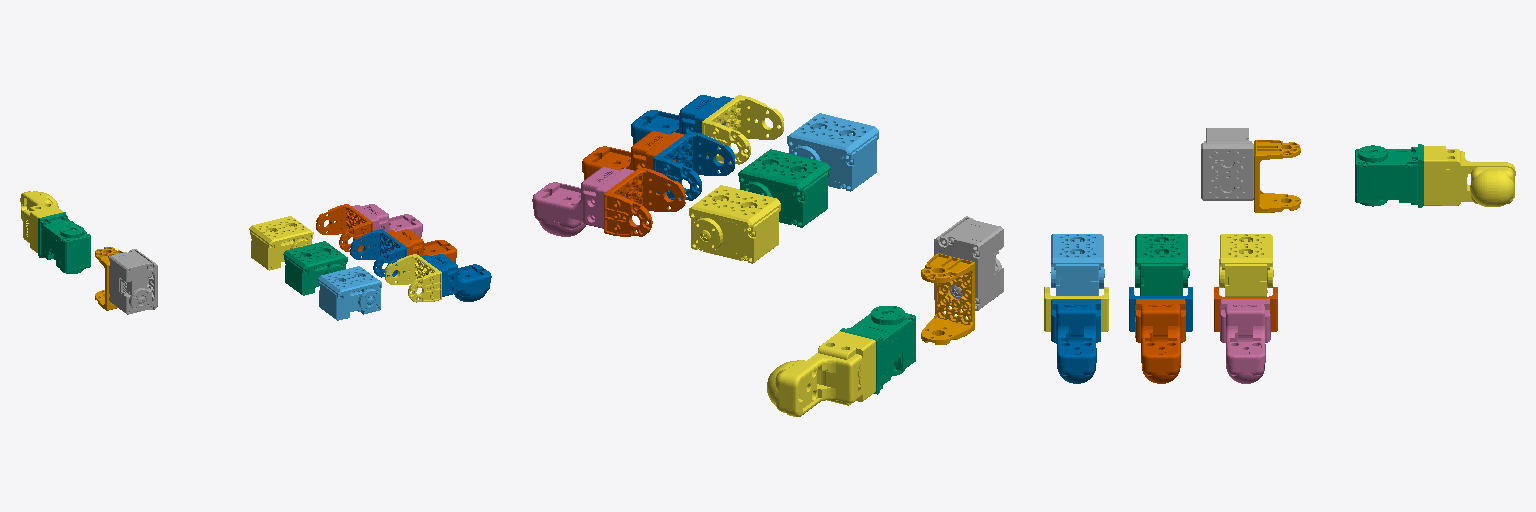
--- What the picture shows (computed from the rendered views, not written in the file) ---
The picture shows the robot from 3 angles, left to right: view 1: azimuth 30°, elevation 25°; view 2: azimuth 150°, elevation 25°; view 3: azimuth 270°, elevation 25°; orthographic projection.
Model leap_right_dottip with 29 links and 28 joints (16 revolute, 12 fixed), rooted at palm_center, posed all joints at 0.
Links seen in each view (by area): view 1: pip_4, pip_3, thumb_tip_base, pip_2, pip, fingertip_rf, tip_base_3, tip_base, tip_base_2, thumb_fingertip, fingertip_if, fingertip_mf (+1 smaller); view 2: thumb_fingertip, pip, pip_2, pip_3, fingertip_if, tip_base, pip_4, thumb_pip, thumb_tip_base, tip_base_2, tip_base_3, fingertip_rf (+1 smaller); view 3: thumb_fingertip, thumb_tip_base, pip_4, fingertip_mf, fingertip_if, fingertip_rf, pip, pip_3, pip_2, thumb_pip, tip_base_3, tip_base_2 (+1 smaller).
Boxes of the visible links, x1,y1,x2,y2 form: pip_4: (109,249,157,314); pip_3: (318,266,381,320); thumb_tip_base: (38,212,90,273); pip_2: (283,241,347,295); pip: (249,216,313,270); fingertip_rf: (421,254,491,301); tip_base_3: (385,254,441,302); tip_base: (316,204,372,251); tip_base_2: (350,229,406,277); thumb_fingertip: (20,191,62,252); fingertip_if: (352,204,422,237); fingertip_mf: (387,229,456,262); thumb_fingertip: (767,331,875,416); pip: (689,185,780,263); pip_2: (738,149,830,227); pip_3: (787,113,878,191); fingertip_if: (532,167,633,236); tip_base: (604,167,685,236); pip_4: (934,216,1003,310); thumb_pip: (921,253,974,344); thumb_tip_base: (840,306,915,394); tip_base_2: (653,131,734,200); tip_base_3: (702,95,783,164); fingertip_rf: (631,95,733,144); thumb_fingertip: (1424,146,1515,206); thumb_tip_base: (1355,144,1423,207); pip_4: (1201,128,1253,200); fingertip_mf: (1135,299,1185,383); fingertip_if: (1220,299,1270,383); fingertip_rf: (1051,299,1100,383); pip: (1219,234,1273,296); pip_3: (1050,234,1104,295); pip_2: (1135,234,1189,295); thumb_pip: (1254,140,1300,212); tip_base_3: (1044,287,1108,331); tip_base_2: (1129,287,1192,331).
Size in the robot's own frame: 0.2348 by 0.2533 by 0.0468 metres.
Meshes: 10 distinct files referenced, 13 mesh visuals loaded (6 Collada DAE); not drawn: 8 (reference not matched to a file when rendering).

URDF robot description (leap_right_dottip):
<?xml version="1.0"?>

<robot name="leap_right_dottip">

    <link name="palm_center">
        <inertial>
            <origin xyz="0 0 0" rpy="0 0 0"/>
            <mass value="1e-6" />
            <inertia ixx="0.000000" ixy="0" ixz="0" iyy="0.000000" iyz="0" izz="0.000000" />
        </inertial>
    </link>

    <joint name="palm_joint" type="fixed" dont_collapse="true">
        <parent link="palm_center" />
        <child link="palm_lower" />
        <origin xyz="0.058 0.038 -0.048"
            rpy="0 0 0" />
    </joint>


    <link name="palm_lower">
        <visual>
            <origin xyz="-0.0200 0.02575 -0.0347" rpy="0 -0 0" />
            <geometry>
                <mesh filename="./meshes/palm_pack.dae"/>
                <!-- <mesh filename="./meshes/palm_lower.dae"/> -->
            </geometry>
            <!-- <material name="palm_lower_material">
                <color rgba="0.60392 0.14902 0.14902 1.0"/>
            </material> -->
        </visual>
        <collision>
            <origin xyz="-0.0200 0.02575 -0.0347" rpy="0 -0 0" />
            <geometry>
                <!-- <mesh filename="./meshes/palm_pack.dae"/> -->
                <mesh filename="./meshes/palm_lower.stl"/>
            </geometry>
        </collision>
        <inertial>
            <origin xyz="0 0 0" rpy="0 0 0"/>
            <mass value="0.237" />
            <inertia ixx="0.000354094" ixy="-0.000001193" ixz="-0.000002445" iyy="0.000260915" iyz="-0.000002905" izz="0.000529257" />
        </inertial>
    </link>




    <link name="mcp_joint">
        <visual>
            <origin xyz="0.00840 0.00776 0.01466" rpy="0 0 0" />
            <geometry>
                <mesh filename="./meshes/mcp_joint.dae"/>
            </geometry>
            <!-- <material name="mcp_joint_material">
                <color rgba="0.86666 0.86666 0.050980 1.0"/>
            </material> -->
        </visual>
        <collision>
            <origin xyz="0.00840 0.00776 0.01466" rpy="0 0 0" />
            <geometry>
                <mesh filename="./meshes/mcp_joint.dae"/>
            </geometry>
        </collision>
        <inertial>
            <origin xyz="0 0 0" rpy="0 0 0"/>
            <mass value="0.044" />
            <inertia ixx="0.000011499" ixy="0.000003049" ixz="0.000000121" iyy="0.000007796" iyz="0.000000112" izz="0.000014759" />
        </inertial>
    </link>

    <joint name="j01" type="revolute">
        <origin xyz="-0.0070 0.0230 -0.0187" rpy="1.570796 1.570796 0" />
        <parent link="palm_lower" />
        <child link="mcp_joint" />
        <axis xyz="0 0 -1"/>
        <limit effort="0.95" velocity="8.48" lower = "-0.314" upper = "2.23"/>
        <!-- <joint_properties friction="0.0"/> -->
    </joint>


    <link name="pip">
        <visual>
            <origin xyz="0.00964 0.000299 0.000784" rpy="-1.570796 -1.570796 0" />
            <geometry>
                <mesh filename="./meshes/pip.dae"/>
            </geometry>
            <!-- <material name="pip_material">
                <color rgba="0.7490196 0.7490196 0.7490196 1.0"/>
            </material> -->
        </visual>
        <collision>
            <origin xyz="0.00964 0.000299 0.000784" rpy="-1.570796 -1.570796 0" />
            <geometry>
                <mesh filename="./meshes/pip.dae"/>
            </geometry>
        </collision>
        <inertial>
            <origin xyz="0 0 0" rpy="0 0 0"/>
            <mass value="0.032" />
            <inertia ixx="0.000004798" ixy="0.000000012" ixz="0.000000004" iyy="0.000002862" iyz="0.000000011" izz="0.000004234" />
        </inertial>
    </link>

    <joint name="j00" type="revolute">
        <origin xyz="-0.0122 0.0380 0.0145" rpy="-1.570796 0 1.570796" />
        <parent link="mcp_joint" />
        <child link="pip" />
        <axis xyz="0 0 -1"/>
        <!-- <limit effort="0.95" velocity="8.48" lower = "-0.80" upper = "0.05"/> -->
        <limit effort="0.95" velocity="8.48" lower = "-1.047" upper = "1.047"/>
        <!-- <joint_properties friction="0.0"/> -->
    </joint>

    <link name="dip">
        <visual>
            <origin xyz="0.021133 -0.0084321 0.009785" rpy="-3.1415926 0 0" />
            <geometry>
                <mesh filename="./meshes/dip.dae"/>
            </geometry>
            <!-- <material name="dip_material">
                <color rgba="0.866666 0.86666666 0.05098039 1.0"/>
            </material> -->
        </visual>
        <collision>
            <origin xyz="0.021133 -0.0084321 0.009785" rpy="-3.1415926 0 0" />
            <geometry>
                <mesh filename="./meshes/dip.dae"/>
            </geometry>
        </collision>
        <inertial>
            <origin xyz="0 0 0" rpy="0 0 0"/>
            <mass value="0.037" />
            <inertia ixx="0.000005542" ixy="-0.000000607" ixz="-0.000000017" iyy="0.000005727" iyz="-0.000000023" izz="0.000006682" />
        </inertial>
    </link>

    <joint name="j02" type="revolute">
        <origin xyz="0.01499 0.014299 -0.01299" rpy="1.570796 -1.570796 0" />
        <parent link="pip" />
        <child link="dip" />
        <axis xyz="0 0 -1"/>
        <limit effort="0.95" velocity="8.48" lower = "0.00" upper = "1.885"/>
        <!-- <joint_properties friction="0.0"/> -->
    </joint>

    <link name="tip_base">
        <visual>
            <origin xyz="0 -0.014 0.014499" rpy="3.14159 0 0 " />
            <geometry>
                <mesh filename="./meshes/tip_base.dae"/>
            </geometry>
            <!-- <material name="tip_base_material">
                <color rgba="0.46777 0.86666 0.05098 1.0"/>
            </material> -->
        </visual>
        <collision>
            <origin xyz="0 -0.014 0.014499" rpy="3.14159 0 0 " />
            <geometry>
                <mesh filename="./meshes/tip_base.dae"/>
            </geometry>
        </collision>
        <inertial>
            <origin xyz="0 0 0" rpy="0 0 0"/>
            <mass value="0.008" />
            <inertia ixx="0.000003368" ixy="0.000000115" ixz="0" iyy="0.000001556" iyz="0" izz="0.000002863" />
        </inertial>
    </link>

    <joint name="j03" type="revolute">
        <origin xyz="0 -0.03610 0 " rpy="0 0 0 " />
        <!-- <origin xyz="0 0 0 " rpy="0 0 0 " /> -->
        <parent link="dip" />
        <child link="tip_base" />
        <axis xyz="0 0 -1"/>
        <limit effort="0.95" velocity="8.48" lower = "0.0" upper = "2.00"/>
        <!-- <joint_properties friction="0.0"/> -->
    </joint>

    <link name="fingertip_if">
        <visual>
            <origin xyz="0 0 0" rpy="3.14159 0 -1.57080" />
            <geometry>
                <mesh filename="./meshes/DotTip.dae"/>
            </geometry>
            <!-- <material name="fingertip_material">
                <color rgba="0.8627 0.7868 0.5568 1.0"/>
            </material> -->
        </visual>
        <collision>
            <origin xyz="0 0 0" rpy="3.14159 0 -1.57080" />
            <geometry>
                <mesh filename="./meshes/DotTip.dae"/>
            </geometry>
        </collision>
        <inertial>
            <origin xyz="0 0 0" rpy="0 0 0"/>
            <mass value="0.016" />
            <inertia ixx="0.000003368" ixy="0.000000115" ixz="0" iyy="0.000001556" iyz="0" izz="0.000002863" />
        </inertial>
    </link>


    <joint name="if_tip" type="fixed" dont_collapse="true">
        <origin xyz="-0.010  -0.048 0.014499" rpy="0 0 0 " />
        <parent link="tip_base" />
        <child link="fingertip_if" />
    </joint>

    <link name="if_tip_center">
        <inertial>
            <origin xyz="0 0 0" rpy="0 0 0"/>
            <mass value="0.000005" />
            <!-- <inertia ixx="0.000000" ixy="0" ixz="0" iyy="0.000000" iyz="0" izz="0.000000" /> -->
        </inertial>
    </link>
    <joint name="if_tip_center_joint" type="fixed" dont_collapse="true">
        <parent link="fingertip_if" />
        <child link="if_tip_center" />
        <origin xyz="0 0 0" rpy="-1.570796 0 -1.570796" />
    </joint>

    <link name="if_dip_upper">
        <inertial>
            <origin xyz="0 0 0" rpy="0 0 0"/>
            <mass value="0.000" />
            <inertia ixx="0.000000" ixy="0" ixz="0" iyy="0.000000" iyz="0" izz="0.000000" />
        </inertial>
    </link>
    <joint name="if_dip_upper_joint" type="fixed">
        <parent link="tip_base" />
        <child link="if_dip_upper" />
        <origin xyz="0.032 0 0" rpy="0 0 0" />
    </joint>


    <link name="mcp_joint_2">
        <visual>
            <origin xyz="0.0084 0.00776 0.0146576" rpy="0 0 0" />
            <geometry>
                <mesh filename="./meshes/mcp_joint.dae"/>
            </geometry>
            <!-- <material name="mcp_joint_material">
                <color rgba="0.86666666666666669627 0.86666666666666669627 0.050980392156862744391 1.0"/>
            </material> -->
        </visual>
        <collision>
            <origin xyz="0.0084 0.00776 0.0146576" rpy="0 0 0" />
            <geometry>
                <mesh filename="./meshes/mcp_joint.dae"/>
            </geometry>
        </collision>
        <inertial>
            <origin xyz="0 0 0" rpy="0 0 0"/>
            <mass value="0.044" />
            <inertia ixx="0.000011499" ixy="0.000003049" ixz="0.000000121" iyy="0.000007796" iyz="0.000000112" izz="0.000014759" />
        </inertial>
    </link>

    <link name="pip_2">
        <visual>
            <origin xyz="0.00964 0.000299 0.00078" rpy="-1.570796 -1.5707966 0" />
            <geometry>
                <mesh filename="./meshes/pip.dae"/>
            </geometry>
            <!-- <material name="pip_material">
                <color rgba="0.74901960784313725839 0.74901960784313725839 0.74901960784313725839 1.0"/>
            </material> -->
        </visual>
        <collision>
            <origin xyz="0.00964 0.000299 0.00078" rpy="-1.570796 -1.5707966 0" />
            <geometry>
                <mesh filename="./meshes/pip.dae"/>
            </geometry>
        </collision>
        <inertial>
            <origin xyz="0 0 0" rpy="0 0 0"/>
            <mass value="0.032" />
            <inertia ixx="0.000004798" ixy="0.000000012" ixz="0.000000004" iyy="0.000002862" iyz="0.000000011" izz="0.000004234" />
        </inertial>
    </link>

    <link name="dip_2">
        <visual>
            <origin xyz="0.02113 -0.008433 0.009785" rpy="-3.1415926 0 0 " />
            <geometry>
                <mesh filename="./meshes/dip.dae"/>
            </geometry>
            <!-- <material name="dip_material">
                <color rgba="0.8666666 0.86666666 0.050980 1.0"/>
            </material> -->
        </visual>
        <collision>
            <origin xyz="0.02113 -0.008433 0.009785" rpy="-3.1415926 0 0 " />
            <geometry>
                <mesh filename="./meshes/dip.dae"/>
            </geometry>
        </collision>
        <inertial>
            <origin xyz="0 0 0" rpy="0 0 0"/>
            <mass value="0.037" />
            <inertia ixx="0.000005542" ixy="-0.000000607" ixz="-0.000000017" iyy="0.000005727" iyz="-0.000000023" izz="0.000006682" />
        </inertial>
    </link>

    <link name="tip_base_2">
        <visual>
            <origin xyz="0 -0.014 0.014499" rpy="3.14159 0 0 " />
            <geometry>
                <mesh filename="./meshes/tip_base.dae"/>
            </geometry>
            <!-- <material name="tip_base_material">
                <color rgba="0.46777 0.86666666 0.05098039 1.0"/>
            </material> -->
        </visual>
        <collision>
            <origin xyz="0 -0.014 0.014499" rpy="3.14159 0 0 " />
            <geometry>
                <mesh filename="./meshes/tip_base.dae"/>
            </geometry>
        </collision>
        <inertial>
            <origin xyz="0 0 0" rpy="0 0 0"/>
            <mass value="0.008" />
            <inertia ixx="0.000003368" ixy="0.000000115" ixz="0" iyy="0.000001556" iyz="0" izz="0.000002863" />
        </inertial>
    </link>

    <link name="fingertip_mf">
        <visual>
            <origin xyz="0 0 0" rpy="3.14159 0 -1.57080" />
            <geometry>
                <mesh filename="./meshes/DotTip.dae"/>
            </geometry>
            <!-- <material name="fingertip_material">
                <color rgba="0.8627 0.7868 0.5568 1.0"/>
            </material> -->
        </visual>
        <collision>
            <origin xyz="0 0 0" rpy="3.14159 0 -1.57080"/>
            <geometry>
                <mesh filename="./meshes/DotTip.dae"/>
            </geometry>
        </collision>
        <inertial>
            <origin xyz="0 0 0" rpy="0 0 0"/>
            <mass value="0.016" />
            <inertia ixx="0.000003368" ixy="0.000000115" ixz="0" iyy="0.000001556" iyz="0" izz="0.000002863" />
        </inertial>
    </link>

    <joint name="j04" type="revolute">
        <origin xyz="-0.01220 0.0380 0.0145" rpy="-1.570796 0 1.570796" />
        <parent link="mcp_joint_2" />
        <child link="pip_2" />
        <axis xyz="0 0 -1"/>
        <!-- <limit effort="0.95" velocity="8.48" lower = "-0.30" upper = "0.30"/> -->
        <limit effort="0.95" velocity="8.48" lower = "-1.047" upper = "1.047"/>
        <!-- <joint_properties friction="0.0"/> -->
    </joint>

    <joint name="j05" type="revolute">
        <origin xyz="-0.007095 -0.022392 -0.01872" rpy="1.570796 1.570796 0" />
        <parent link="palm_lower" />
        <child link="mcp_joint_2" />
        <axis xyz="0 0 -1"/>
        <limit effort="0.95" velocity="8.48" lower = "-0.314" upper = "2.23"/>
        <!-- <joint_properties friction="0.0"/> -->
    </joint>

    <joint name="j06" type="revolute">
        <origin xyz="0.01499 0.01430 -0.0130" rpy="1.570796 -1.570796 0" />
        <parent link="pip_2" />
        <child link="dip_2" />
        <axis xyz="0 0 -1"/>
        <limit effort="0.95" velocity="8.48" lower = "0.00" upper = "1.885"/>
        <!-- <joint_properties friction="0.0"/> -->
    </joint>

    <joint name="j07" type="revolute">
        <origin xyz="0 -0.0360 0.0002" rpy="0 0 0" />
        <parent link="dip_2" />
        <child link="tip_base_2" />
        <axis xyz="0 0 -1"/>
        <limit effort="0.95" velocity="8.48" lower = "0.0" upper = "2.00"/>
        <!-- <joint_properties friction="0.0"/> -->
    </joint>

    <joint name="mf_tip" type="fixed" dont_collapse="true">
        <origin xyz="-0.010  -0.048 0.014499" rpy="0 0 0 " />
        <parent link="tip_base_2" />
        <child link="fingertip_mf" />
    </joint>

    <link name="mf_tip_center">
        <inertial>
            <origin xyz="0 0 0" rpy="0 0 0"/>
            <mass value="0.000005" />
            <!-- <inertia ixx="0.000000" ixy="0" ixz="0" iyy="0.000000" iyz="0" izz="0.000000" /> -->
        </inertial>
    </link>
    <joint name="mf_tip_center_joint" type="fixed" dont_collapse="true">
        <parent link="fingertip_mf" />
        <child link="mf_tip_center" />
        <!-- <origin rpy="0.00000 0.00000 0.00000" xyz="0 0 -0.07" /> -->
        <origin xyz="0 0 0" rpy="-1.5707 0 -1.5707" />
    </joint>

    <link name="mf_dip_upper">
        <inertial>
            <origin xyz="0 0 0" rpy="0 0 0"/>
            <mass value="0.000" />
            <inertia ixx="0.000000" ixy="0" ixz="0" iyy="0.000000" iyz="0" izz="0.000000" />
        </inertial>
    </link>
    <joint name="mf_dip_upper_joint" type="fixed">
        <parent link="tip_base_2" />
        <child link="mf_dip_upper" />
        <origin xyz="0.032 0 0" rpy="0 0 0" />
    </joint>



    <link name="mcp_joint_3">
        <visual>
            <origin xyz="0.00840 0.007766 0.01465" rpy="0 0 0" />
            <geometry>
                <mesh filename="./meshes/mcp_joint.dae"/>
            </geometry>
            <!-- <material name="mcp_joint_material">
                <color rgba="0.866666 0.8666 0.05098 1.0"/>
            </material> -->
        </visual>
        <collision>
            <origin xyz="0.00840 0.007766 0.01465" rpy="0 0 0" />
            <geometry>
                <mesh filename="./meshes/mcp_joint.dae"/>
            </geometry>
        </collision>
        <inertial>
            <origin xyz="0 0 0" rpy="0 0 0"/>
            <mass value="0.044" />
            <inertia ixx="0.000011499" ixy="0.000003049" ixz="0.000000121" iyy="0.000007796" iyz="0.000000112" izz="0.000014759" />
        </inertial>
    </link>

    <link name="pip_3">
        <visual>
            <origin xyz="0.00964 0.000299 0.000784" rpy="-1.570796 -1.570796 0" />
            <geometry>
                <mesh filename="./meshes/pip.dae"/>
            </geometry>
            <!-- <material name="pip_material">
                <color rgba="0.7490196 0.7490196 0.7490196 1.0"/>
            </material> -->
        </visual>
        <collision>
            <origin xyz="0.00964 0.000299 0.000784" rpy="-1.570796 -1.570796 0" />
            <geometry>
                <mesh filename="./meshes/pip.dae"/>
            </geometry>
        </collision>
        <inertial>
            <origin xyz="0 0 0" rpy="0 0 0"/>
            <mass value="0.032" />
            <inertia ixx="0.000004798" ixy="0.000000012" ixz="0.000000004" iyy="0.000002862" iyz="0.000000011" izz="0.000004234" />
        </inertial>
    </link>

    <link name="dip_3">
        <visual>
            <origin xyz="0.0211 -0.0084 0.00978" rpy="-3.1415926 0 0" />
            <geometry>
                <mesh filename="./meshes/dip.dae"/>
            </geometry>
            <!-- <material name="dip_material">
                <color rgba="0.8666 0.866 0.050 1.0"/>
            </material> -->
        </visual>
        <collision>
            <origin xyz="0.0211 -0.0084 0.00978" rpy="-3.1415926 0 0" />
            <geometry>
                <mesh filename="./meshes/dip.dae"/>
            </geometry>
        </collision>
        <inertial>
            <origin xyz="0 0 0" rpy="0 0 0"/>
            <mass value="0.037" />
            <inertia ixx="0.000005542" ixy="-0.000000607" ixz="-0.000000017" iyy="0.000005727" iyz="-0.000000023" izz="0.000006682" />
        </inertial>
    </link>

    <link name="tip_base_3">
        <visual>
            <origin xyz="0 -0.014 0.014499" rpy="3.14159 0 0 " />
            <geometry>
                <mesh filename="./meshes/tip_base.dae"/>
            </geometry>
            <!-- <material name="tip_base_material">
                <color rgba="0.46777 0.866 0.05098 1.0"/>
            </material> -->
        </visual>
        <collision>
            <origin xyz="0 -0.014 0.014499" rpy="3.14159 0 0 " />
            <geometry>
                <mesh filename="./meshes/tip_base.dae"/>
            </geometry>
        </collision>
        <inertial>
            <origin xyz="0 0 0" rpy="0 0 0"/>
            <mass value="0.008" />
            <inertia ixx="0.000003368" ixy="0.000000115" ixz="0" iyy="0.000001556" iyz="0" izz="0.000002863" />
        </inertial>
    </link>

    <link name="fingertip_rf">
        <visual>
            <!-- <origin xyz="0 -0.017 0.014499" rpy="3.14159 0 -1.57080" /> -->
            <origin xyz="0 0 0 " rpy="3.14159 0 -1.57080" />
            <geometry>
                <mesh filename="./meshes/DotTip.dae"/>
            </geometry>
            <!-- <material name="fingertip_material">
                <color rgba="0.8627 0.7868 0.5568 1.0"/>
            </material> -->
        </visual>
        <collision>
            <origin xyz="0 0 0 " rpy="3.14159 0 -1.57080" />
            <geometry>
                <mesh filename="./meshes/DotTip.dae"/>
            </geometry>
        </collision>
        <inertial>
            <origin xyz="0 0 0" rpy="0 0 0"/>
            <mass value="0.016" />
            <inertia ixx="0.000003368" ixy="0.000000115" ixz="0" iyy="0.000001556" iyz="0" izz="0.000002863" />
        </inertial>
    </link>

    <joint name="j08" type="revolute">
        <origin xyz="-0.0122 0.03811 0.0144" rpy="-1.570796 0 1.570796" />
        <parent link="mcp_joint_3" />
        <child link="pip_3" />
        <axis xyz="0 0 -1"/>
        <!-- <limit effort="0.95" velocity="8.48" lower = "-0.05" upper = "0.80"/> -->
        <limit effort="0.95" velocity="8.48" lower = "-1.047" upper = "1.047"/>
        <!-- <joint_properties friction="0.0"/> -->
    </joint>

    <joint name="j09" type="revolute">
        <origin xyz="-0.0070 -0.06784 -0.0187" rpy="1.570796 1.570796 0" />
        <parent link="palm_lower" />
        <child link="mcp_joint_3" />
        <axis xyz="0 0 -1"/>
        <limit effort="0.95" velocity="8.48" lower = "-0.314" upper = "2.23"/>
        <!-- <joint_properties friction="0.0"/> -->
    </joint>

    <joint name="j10" type="revolute">
        <origin xyz="0.014999 0.014299 -0.0129" rpy="1.570796 -1.570796 0" />
        <parent link="pip_3" />
        <child link="dip_3" />
        <axis xyz="0 0 -1"/>
        <limit effort="0.95" velocity="8.48" lower = "0.00" upper = "1.885"/>
        <!-- <joint_properties friction="0.0"/> -->
    </joint>

    <joint name="j11" type="revolute">
        <origin xyz="0 -0.0360 0.0002" rpy="0 0 0" />
        <parent link="dip_3" />
        <child link="tip_base_3" />
        <axis xyz="0 0 -1"/>
        <limit effort="0.95" velocity="8.48" lower = "0.0" upper = "2.00"/>    #2.042
        <!-- <joint_properties friction="0.0"/> -->
    </joint>

    <joint name="rf_tip" type="fixed" dont_collapse="true">
        <origin xyz="-0.010  -0.048 0.014499" rpy="0 0 0 " />
        <parent link="tip_base_3" />
        <child link="fingertip_rf" />
    </joint>

    <link name="rf_tip_center">
        <inertial>
            <origin xyz="0 0 0" rpy="0 0 0"/>
            <mass value="0.000005" />
            <!-- <inertia ixx="0.000000" ixy="0" ixz="0" iyy="0.000000" iyz="0" izz="0.000000" /> -->
        </inertial>
    </link>
    <joint name="rf_tip_center_joint" type="fixed" dont_collapse="true">
        <parent link="fingertip_rf" />
        <child link="rf_tip_center" />
        <!-- <origin rpy="0.00000 0.00000 0.00000" xyz="0 0 -0.07" /> -->
        <origin xyz="0 0 0" rpy="-1.5707963 0 -1.5707963" />
    </joint>

    <link name="rf_dip_upper">
        <inertial>
            <origin xyz="0 0 0" rpy="0 0 0"/>
            <mass value="0.000" />
            <inertia ixx="0.000000" ixy="0" ixz="0" iyy="0.000000" iyz="0" izz="0.000000" />
        </inertial>
    </link>
    <joint name="rf_dip_upper_joint" type="fixed">
        <parent link="tip_base_3" />
        <child link="rf_dip_upper" />
        <origin xyz="0.032 0 0" rpy="0 0 0" />
    </joint>


    <link name="pip_4">
        <visual>
            <origin xyz="-0.0053 0.0002 0.000784" rpy="-1.570796 -1.570796 0" />
            <geometry>
                <mesh filename="./meshes/pip.dae"/>
            </geometry>
            <!-- <material name="pip_material">
                <color rgba="0.7490 0.7490 0.7490 1.0"/>
            </material> -->
        </visual>
        <!-- <collision>
            <origin xyz="-0.0053 0.0002 0.000784" rpy="-1.570796 -1.570796 0" />
            <geometry>
                <mesh filename="./meshes/pip.dae"/>
            </geometry>
        </collision> -->
        <inertial>
            <origin xyz="0 0 0" rpy="0 0 0"/>
            <mass value="0.032" />
            <inertia ixx="0.000004798" ixy="0.000000012" ixz="0.000000004" iyy="0.000002862" iyz="0.000000011" izz="0.000004234" />
        </inertial>
    </link>

    <link name="thumb_pip">
        <visual>
            <origin xyz="0.01196 0 -0.0158" rpy="1.570796 0 0" />
            <geometry>
                <mesh filename="./meshes/thumb_pip.dae"/>
            </geometry>
            <!-- <material name="thumb_pip_material">
                <color rgba="0.8666 0.866666 0.05098 1.0"/>
            </material> -->
        </visual>
        <!-- <collision>
            <origin xyz="0.01196 0 -0.0158" rpy="1.570796 0 0" />
            <geometry>
                <mesh filename="./meshes/thumb_pip.dae"/>
            </geometry>
        </collision> -->
        <inertial>
            <origin xyz="0 0 0" rpy="0 0 0"/>
            <mass value="0.003" />
            <inertia ixx="0.000000593" ixy="0" ixz="0" iyy="0.000000549" iyz="0" izz="0.000000224" />
        </inertial>
    </link>

    <link name="thumb_dip">
        <visual>
            <origin xyz="0.04396 0.05795 -0.008628" rpy="0 0 0" />
            <geometry>
                <mesh filename="./meshes/thumb_dip.dae"/>
            </geometry>
            <!-- <material name="thumb_dip_material">
                <color rgba="0.866666 0.86666666 0.050980 1.0"/>
            </material> -->
        </visual>
        <!-- <collision>
            <origin xyz="0.04396 0.05795 -0.008628" rpy="0 0 0" />
            <geometry>
                <mesh filename="./meshes/thumb_dip.dae"/>
            </geometry>
        </collision> -->
        <inertial>
            <origin xyz="0 0 0" rpy="0 0 0"/>
            <mass value="0.038" />
            <inertia ixx="0.000008474" ixy="0.000000241" ixz="0.000000026" iyy="0.000003841" iyz="0.000000025" izz="0.000007679" />
        </inertial>
    </link>

    <link name="thumb_tip_base">
        <visual>
            <origin xyz="0 0 -0.0065" rpy="0 0 0 " />
            <geometry>
                <mesh filename="./meshes/thumb_tip_base.dae"/>
            </geometry>
            <!-- <material name="tip_base_material">
                <color rgba="0.46777 0.8666 0.05098 1.0"/>
            </material> -->
        </visual>
        <collision>
            <origin xyz="0 0 -0.0065" rpy="0 0 0 " />
            <geometry>
                <mesh filename="./meshes/thumb_tip_base.dae"/>
            </geometry>
        </collision>
        <inertial>
            <origin xyz="0 0 0" rpy="0 0 0"/>
            <mass value="0.008" />
            <inertia ixx="0.000003368" ixy="0.000000115" ixz="0" iyy="0.000001556" iyz="0" izz="0.000002863" />
        </inertial>
    </link>

    <link name="thumb_fingertip">
        <visual>
            <origin xyz="0 0 0 " rpy="3.14159 0 -1.57080" />
            <geometry>
                <mesh filename="./meshes/DotTip-thumb.dae"/>
            </geometry>
            <!-- <material name="fingertip_material">
                <color rgba="0.8627 0.7868 0.5568 1.0"/>
            </material> -->
        </visual>
        <collision>
            <origin xyz="0 0 0 " rpy="3.14159 0 -1.57080" />
            <geometry>
                <mesh filename="./meshes/DotTip-thumb.dae"/>
            </geometry>
        </collision>
        <inertial>
            <origin xyz="0 0 0" rpy="0 0 0"/>
            <mass value="0.016" />
            <inertia ixx="0.000003368" ixy="0.000000115" ixz="0" iyy="0.000001556" iyz="0" izz="0.000002863" />
        </inertial>
    </link>


    <!-- <link name="thumb_fingertip">
        <visual>
            <origin xyz="0.062559538462667388381 0.078459682911396988469 0.048992911807332215068" rpy="0 0 0" />
            <geometry>
                <mesh filename="./meshes/thumb_fingertip.dae"/>
            </geometry>
            <material name="thumb_fingertip_material">
                <color rgba="0.60392156862745094426 0.14901960784313725283 0.14901960784313725283 1.0"/>
            </material>
        </visual>
        <collision>
            <origin xyz="0.062559538462667388381 0.078459682911396988469 0.048992911807332215068" rpy="0 0 0" />
            <geometry>
                <mesh filename="./meshes/thumb_fingertip.dae"/>
            </geometry>
        </collision>
        <inertial>
            <origin xyz="0 0 0" rpy="0 0 0"/>
            <mass value="0.049" />
            <inertia ixx="0.000020372" ixy="-0.000000489" ixz="-0.00000003" iyy="0.000004336" iyz="-0.000000097" izz="0.000019845" />
        </inertial>
    </link> -->

    <joint name="j12" type="revolute">
        <origin xyz="-0.0694 -0.00124 -0.02162" rpy="0 1.570796 0" />
        <parent link="palm_lower" />
        <child link="pip_4" />
        <axis xyz="0 0 -1"/>
        <limit effort="0.95" velocity="8.48" lower = "-0.349" upper = "2.094"/>
        <!-- <joint_properties friction="0.0"/> -->
    </joint>

    <joint name="j13" type="revolute">
        <origin xyz="0 0.0143 -0.013" rpy="1.570796 -1.570796 0" />
        <parent link="pip_4" />
        <child link="thumb_pip" />
        <axis xyz="0 0 -1"/>
        <!-- <limit effort="0.95" velocity="8.48" lower = "-0.47" upper = "2.443"/> -->
        <limit effort="0.95" velocity="8.48" lower = "-0.47" upper = "1.20"/>
        <!-- <joint_properties friction="0.0"/> -->
    </joint>

    <joint name="j14" type="revolute">
        <origin xyz="0 0.014499 -0.017" rpy="-1.570796 0 0" />
        <parent link="thumb_pip" />
        <child link="thumb_dip" />
        <axis xyz="0 0 -1"/>
        <limit effort="0.95" velocity="8.48" lower = "-1.20" upper = "1.90"/>
        <!-- <joint_properties friction="0.0"/> -->
    </joint>

    <joint name="j15" type="revolute">
        <origin xyz="0 0.04659 0.00019" rpy="0 0 3.141592" />
        <parent link="thumb_dip" />
        <child link="thumb_tip_base" />
        <axis xyz="0 0 -1"/>
        <limit effort="0.95" velocity="8.48" lower = "-1.34" upper = "1.88"/>
        <!-- <joint_properties friction="0.0"/> -->
    </joint>

    <joint name="tf_tip" type="fixed" dont_collapse="true">
        <origin xyz="-0.0102  -0.0645 -0.0145" rpy="0 0 0 " />
        <parent link="thumb_tip_base" />
        <child link="thumb_fingertip" />
    </joint>

    <link name="tf_tip_center">
        <inertial>
            <origin xyz="0 0 0" rpy="0 0 0"/>
            <mass value="0.000005" />
            <!-- <inertia ixx="0.000000" ixy="0" ixz="0" iyy="0.000000" iyz="0" izz="0.000000" /> -->
        </inertial>
    </link>
    <joint name="tf_tip_center_joint" type="fixed" dont_collapse="true"> 
        <parent link="thumb_fingertip" />
        <child link="tf_tip_center" />
        <!-- <origin rpy="0.00000 0.00000 0.00000" xyz="0 0 -0.07" /> -->
        <origin xyz="0 0 0" rpy="-1.570796 0 -1.570796" />
    </joint>

</robot>
